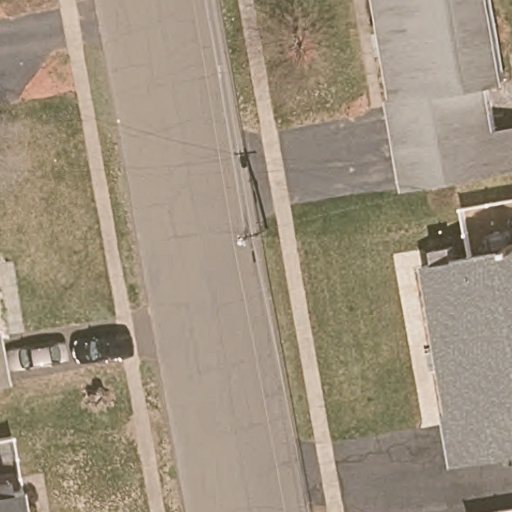DT: (235, 224, 267, 249)
